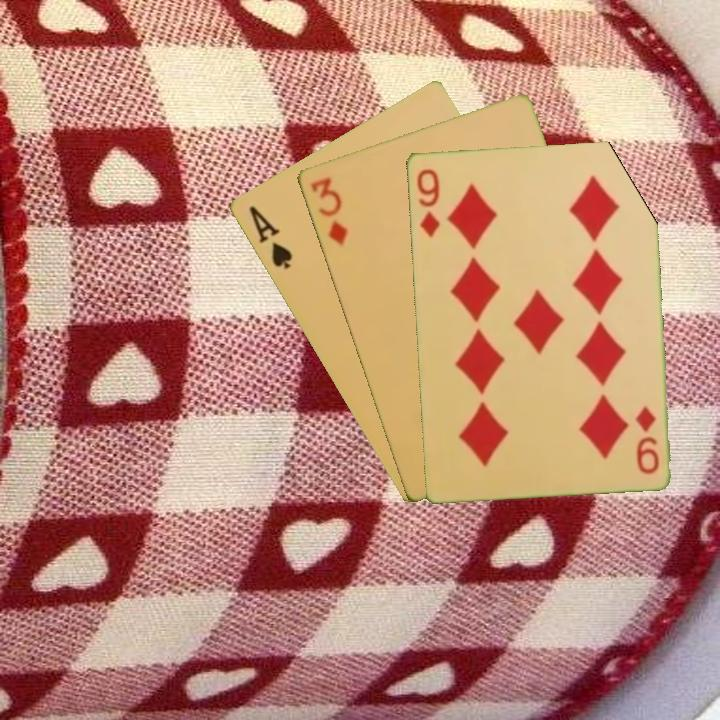3d: (306, 173, 350, 248)
9d: (631, 402, 662, 477), (412, 165, 442, 240)
As: (244, 202, 295, 273)
